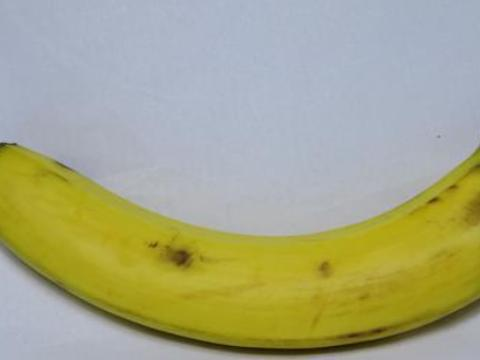freshripe: (0, 130, 479, 359)
